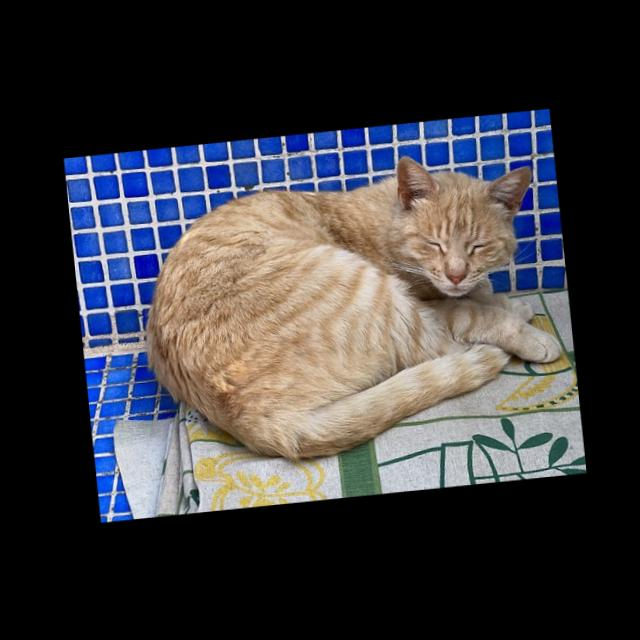animals: (129, 143, 570, 474)
